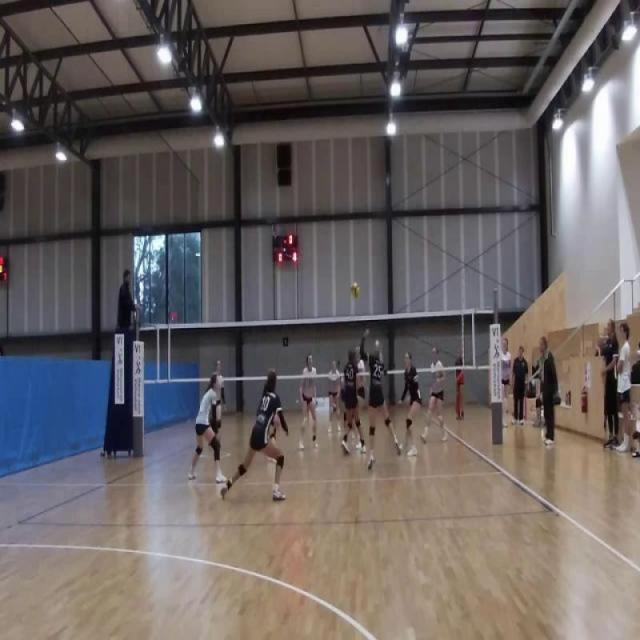volleyball: (349, 280, 361, 301)
